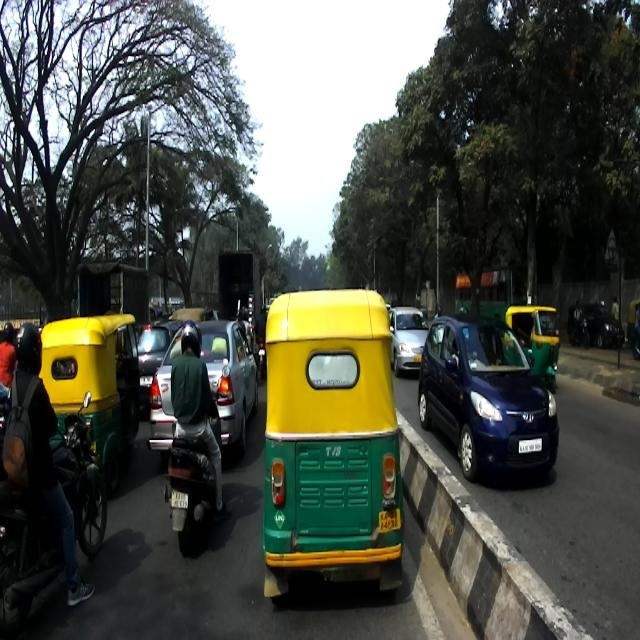auto ahead at: (266, 296, 399, 592)
car ahead at: (418, 319, 561, 486)
motorcycle ahead at: (0, 391, 105, 640), (163, 430, 225, 557)
